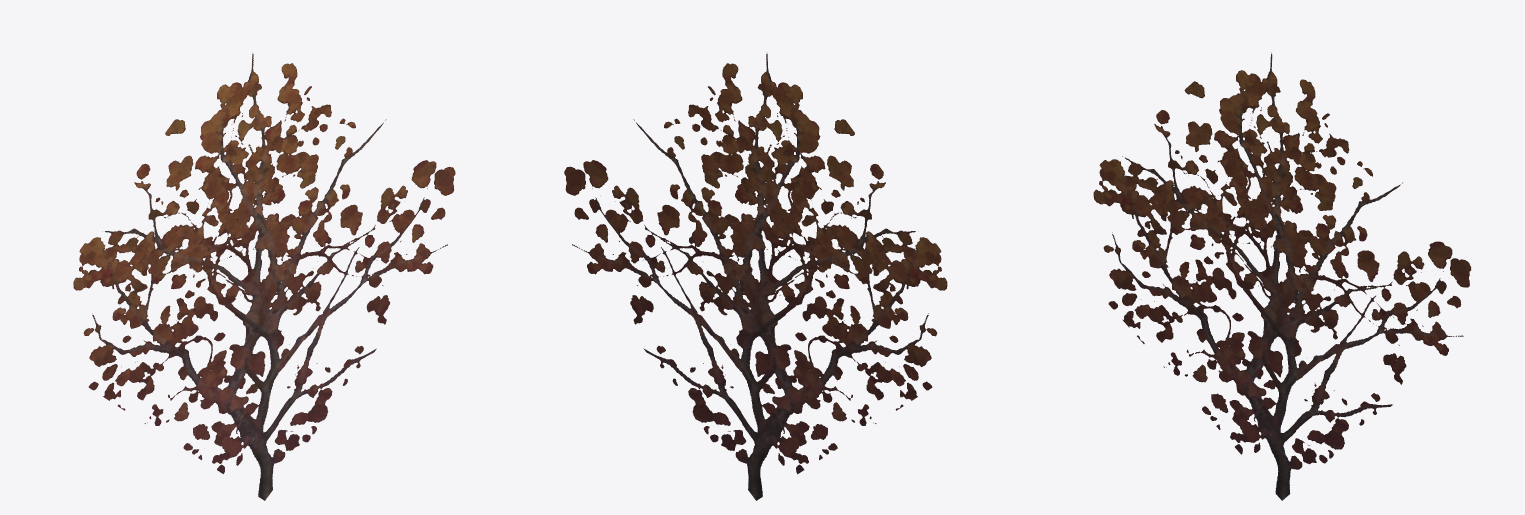
The model's file is yw_shibalipo_guanmu06.FBX.
3 renders of one model, left to right at view 1: azimuth 30°, elevation 25°; view 2: azimuth 150°, elevation 25°; view 3: azimuth 330°, elevation 25°, orthographic.
Visible parts, largest first — view 1: yw_shibalipo_guanmu06; view 2: yw_shibalipo_guanmu06; view 3: yw_shibalipo_guanmu06.
Boxes of the visible parts, left/top/right/bottom form: yw_shibalipo_guanmu06: left=73, top=53, right=455, bottom=500; yw_shibalipo_guanmu06: left=564, top=53, right=947, bottom=500; yw_shibalipo_guanmu06: left=1093, top=52, right=1471, bottom=500.
Size of the model in its own units: 202 by 196 by 0.5184.
